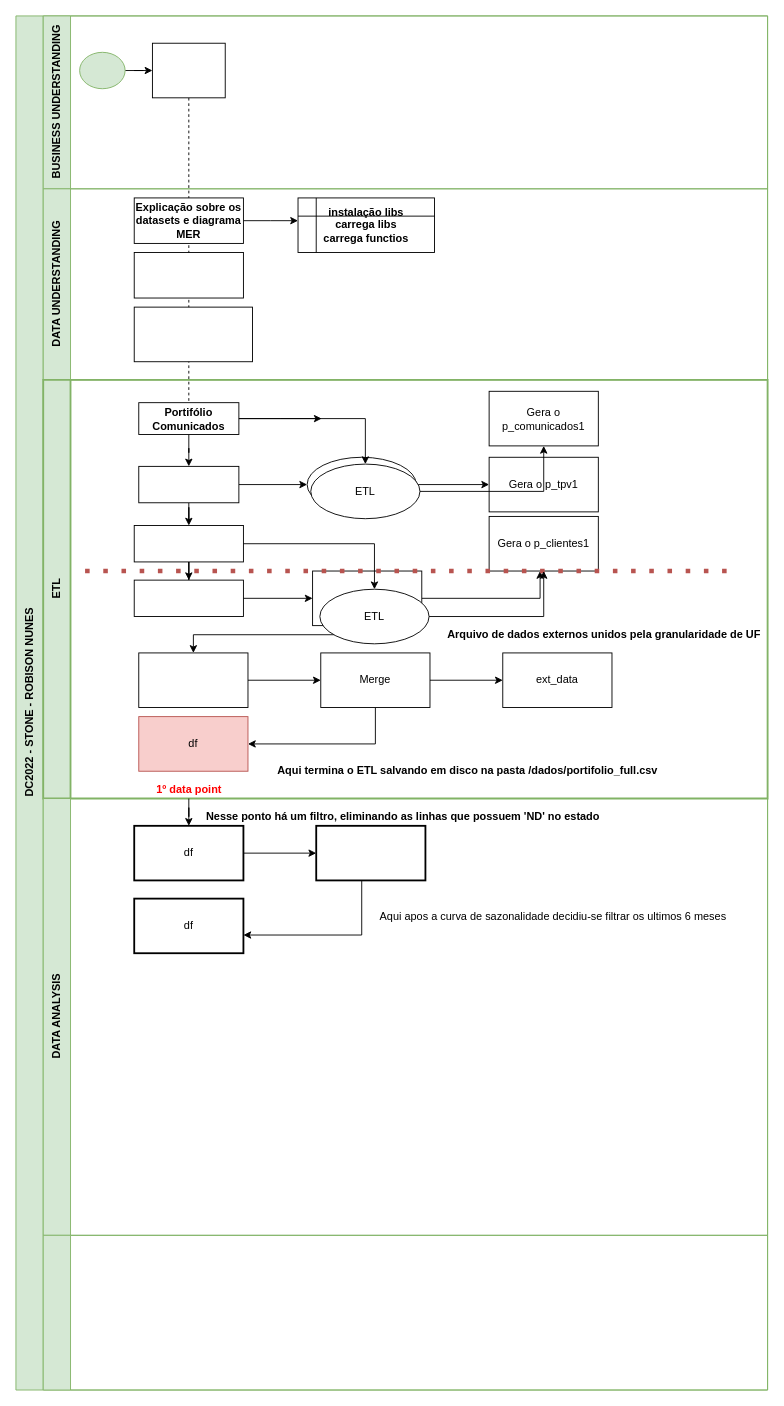
Image size: 784x1406. Some labels were removed from this diagram. The shapes that lost their labels are listed below. From the top down, each one's centre as x and y in pixels, then its label:
point (102, 70): Start
point (188, 70): Descrição do contexto e problema de negócio
point (188, 275): Carregamento dos datasets e head()
point (193, 334): Print das principais estastisticas do datasets
point (188, 484): Portifolio TPV
point (188, 543): Portifolio Clientes
point (188, 598): p_geral
point (193, 680): Gera o dataset df
point (370, 852): Plot da curva de sazonlidade
point (405, 1312): INSIGHTS
